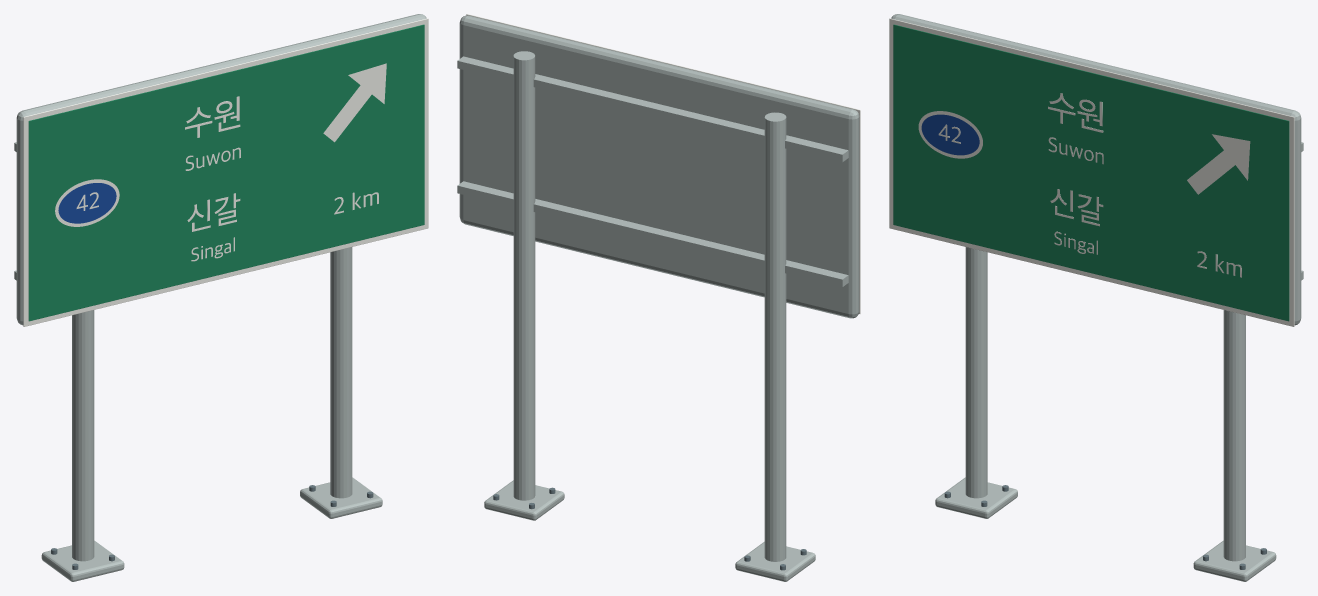
Rendered from SIMUS_KGuide_Direction.glb.
3 renders of one model, left to right at view 1: azimuth 30°, elevation 25°; view 2: azimuth 150°, elevation 25°; view 3: azimuth 330°, elevation 25°, orthographic. The views are drawn at different scales.
Parts seen in each view (by area): view 1: Green face.002, White perimeter.002, Support pole.004, Support pole.005, Aluminium sign back.002, Direction arrow, Foot plate.005, Foot plate.004, Route oval, Route oval border, Text 수원, Text 신갈; view 2: Aluminium sign back.002, Support pole.005, Support pole.004, Rear stiffener.005, Rear stiffener.004, Foot plate.004, Foot plate.005, White perimeter.002; view 3: Green face.002, White perimeter.002, Support pole.004, Support pole.005, Aluminium sign back.002, Direction arrow, Foot plate.004, Foot plate.005, Route oval, Route oval border, Text 수원, Text 신갈.
Part boxes in pixels (box(x1,y1,x2,y2)): Green face.002: box(28, 24, 424, 321); White perimeter.002: box(23, 18, 428, 326); Support pole.004: box(72, 310, 94, 561); Support pole.005: box(330, 247, 352, 498); Aluminium sign back.002: box(16, 14, 426, 325); Direction arrow: box(323, 63, 386, 142); Foot plate.005: box(300, 477, 382, 518); Foot plate.004: box(41, 540, 124, 581); Route oval: box(58, 183, 116, 223); Route oval border: box(55, 179, 119, 226); Text 수원: box(185, 96, 240, 137); Text 신갈: box(187, 193, 240, 231); Aluminium sign back.002: box(459, 15, 859, 318); Support pole.005: box(513, 51, 535, 500); Support pole.004: box(764, 112, 786, 561); Rear stiffener.005: box(457, 56, 848, 162); Rear stiffener.004: box(457, 181, 848, 287); Foot plate.004: box(735, 541, 815, 581); Foot plate.005: box(484, 480, 564, 520); White perimeter.002: box(466, 14, 860, 313); Green face.002: box(893, 24, 1289, 321); White perimeter.002: box(889, 18, 1294, 326); Support pole.004: box(965, 247, 987, 498); Support pole.005: box(1223, 310, 1245, 561); Aluminium sign back.002: box(891, 14, 1301, 325); Direction arrow: box(1187, 134, 1250, 194); Foot plate.004: box(935, 477, 1017, 518); Foot plate.005: box(1193, 540, 1276, 581); Route oval: box(921, 114, 979, 155); Route oval border: box(918, 111, 982, 158); Text 수원: box(1048, 93, 1103, 132); Text 신갈: box(1050, 189, 1103, 226).
Size of the model in its own units: 3.8 by 4.25 by 0.505.
